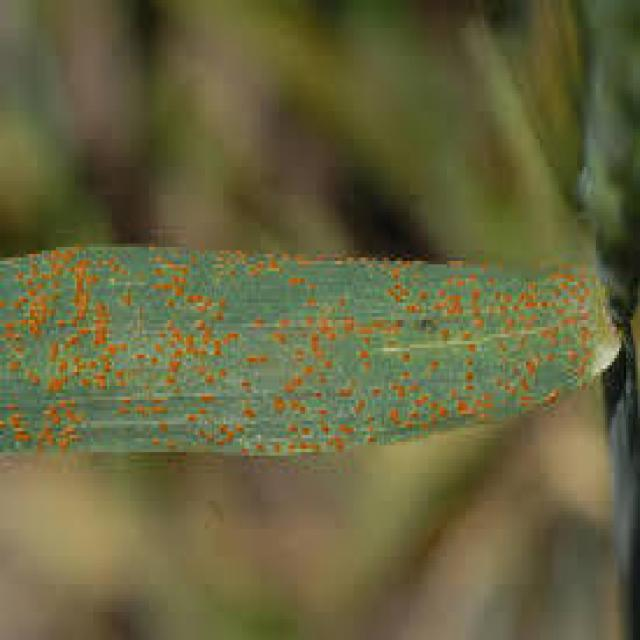wheat-yellowrust: (0, 243, 621, 463)
